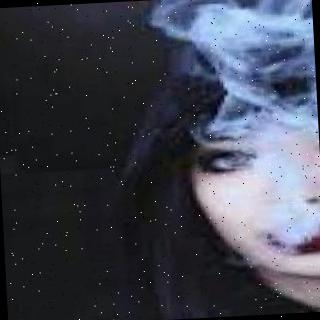smoke: (166, 0, 320, 247)
